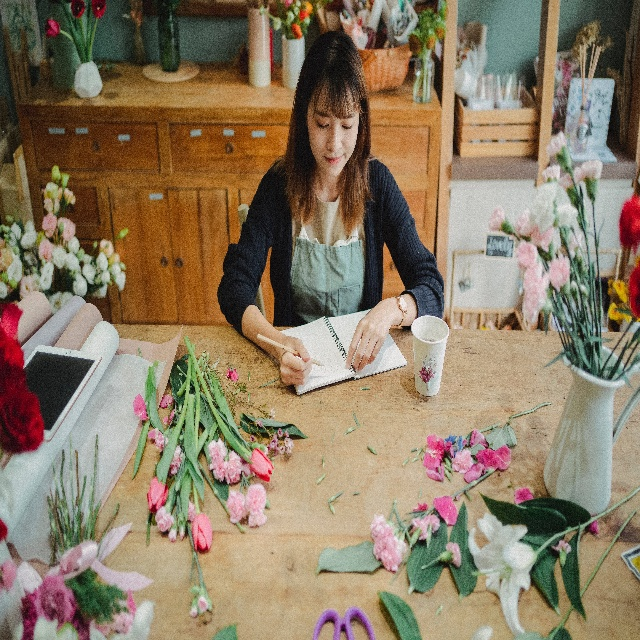Sin_guantes: (346, 299, 399, 371), (277, 331, 311, 389)
